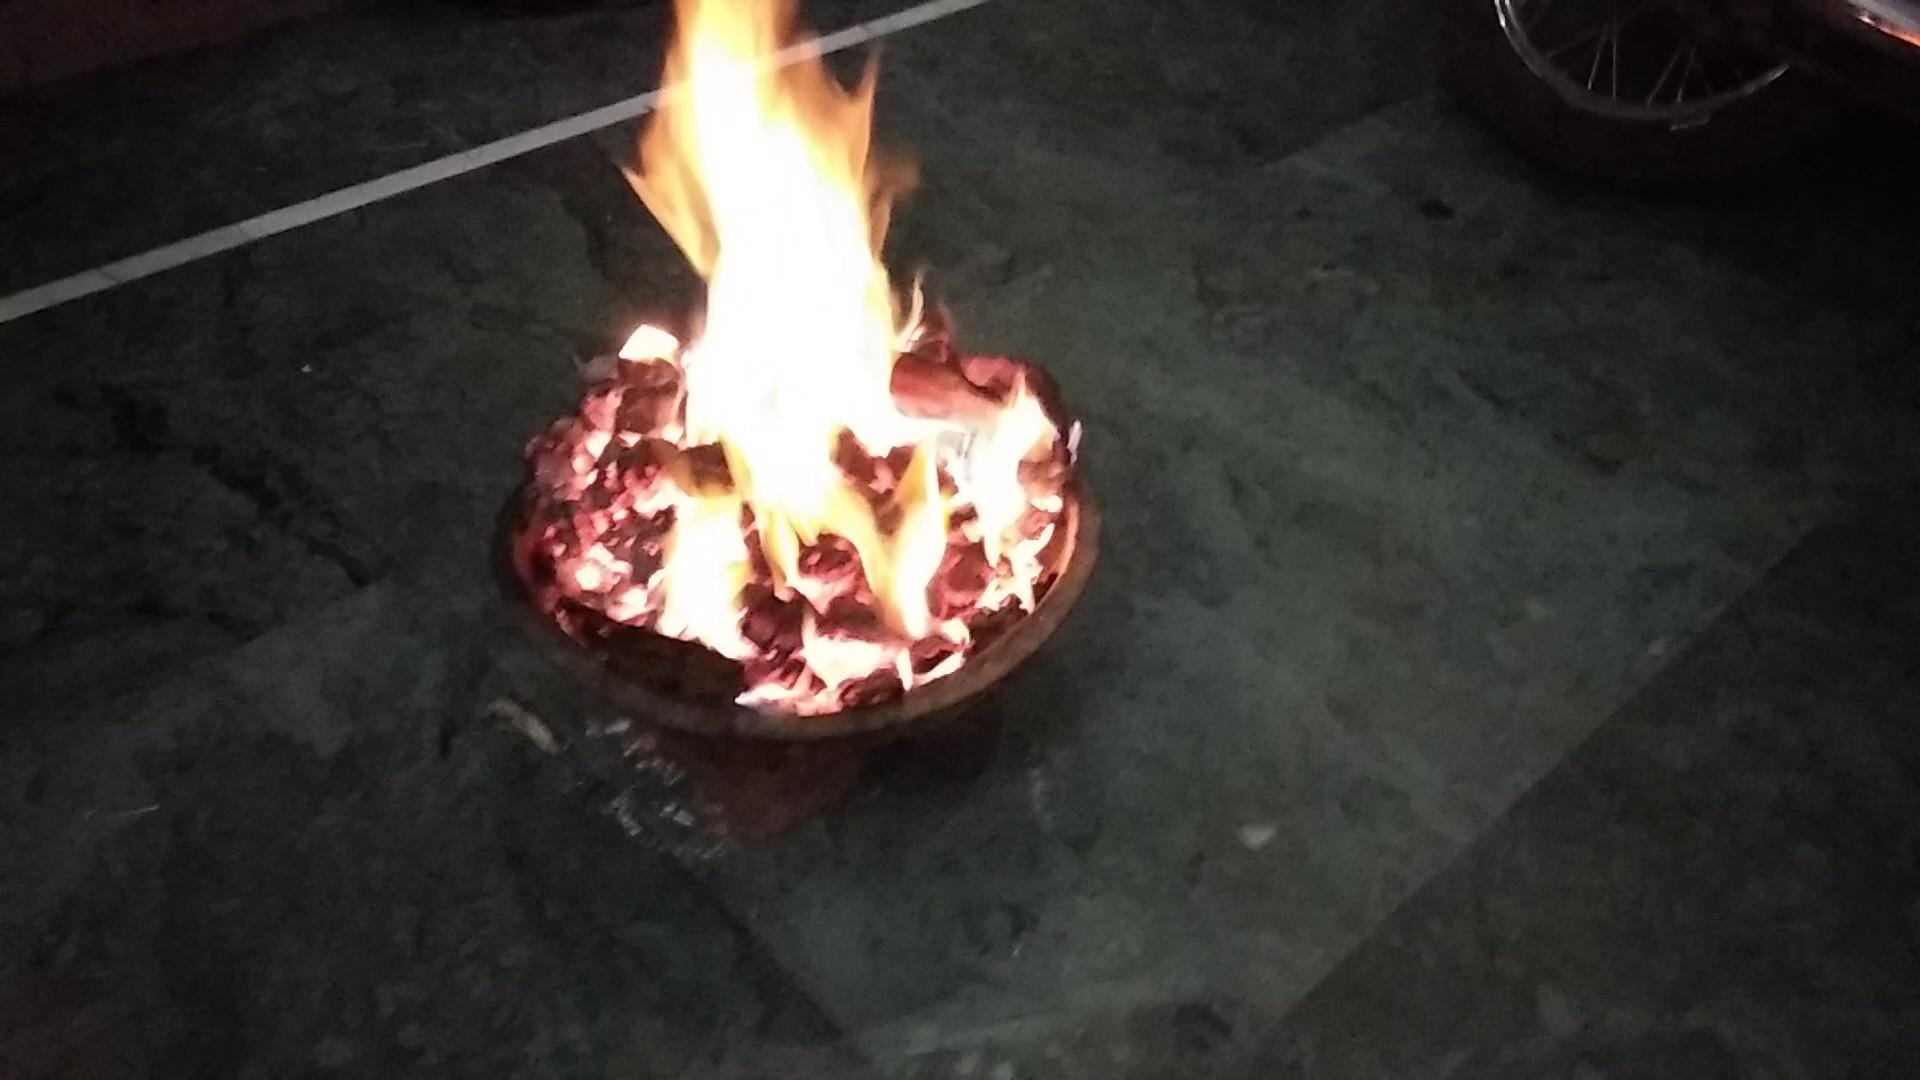fire: (630, 14, 970, 606)
